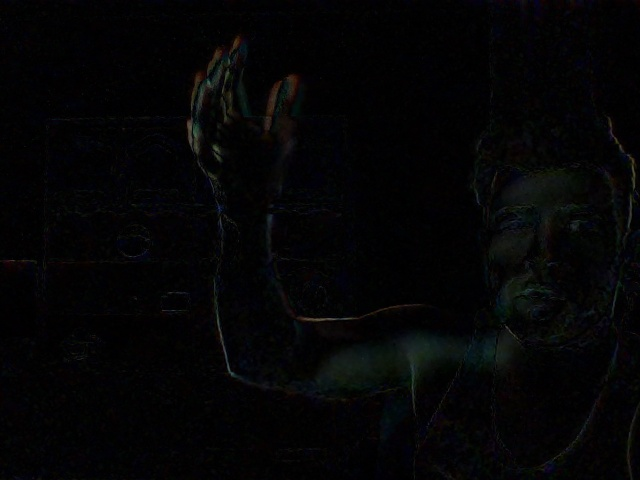arm_fo: (173, 24, 306, 360)
